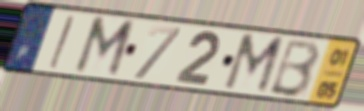2: (172, 29, 222, 89)
7: (131, 23, 183, 81)
B: (265, 38, 323, 100)
I: (46, 13, 77, 72)
M: (70, 15, 139, 80), (220, 32, 288, 97)
